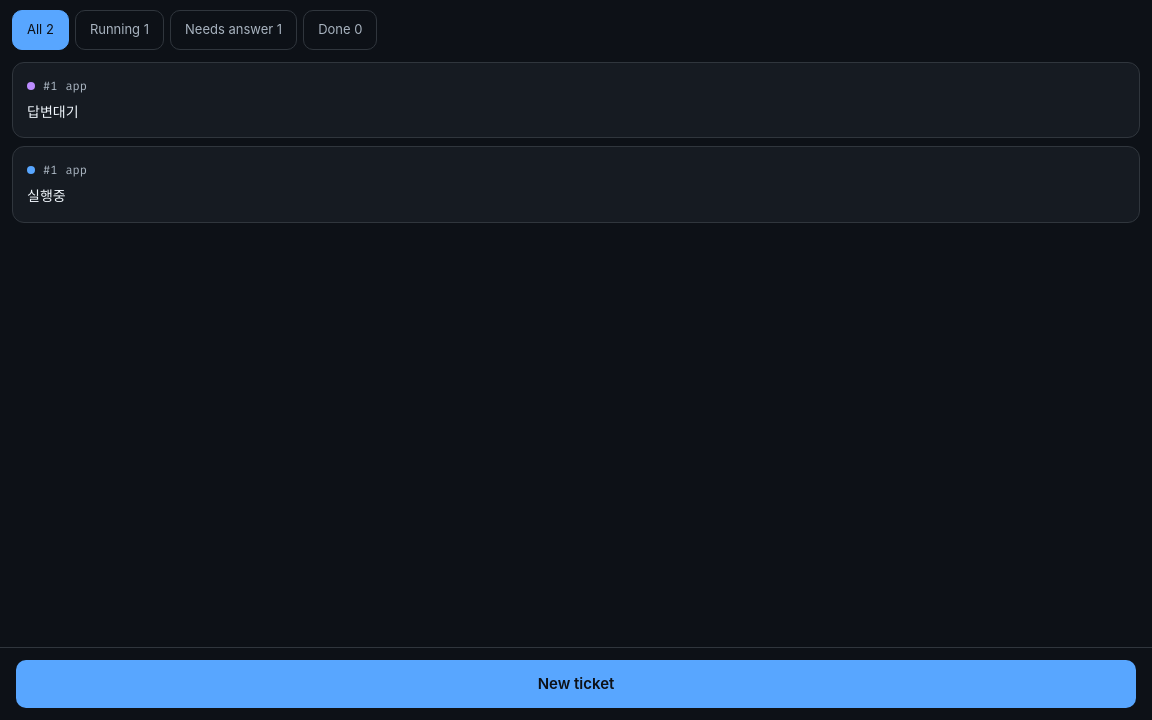
Scenario: MobileTicketList › filters to the tickets that need an answer
Click the tab "Needs answer 1": (234, 30) [170,10,297,50]
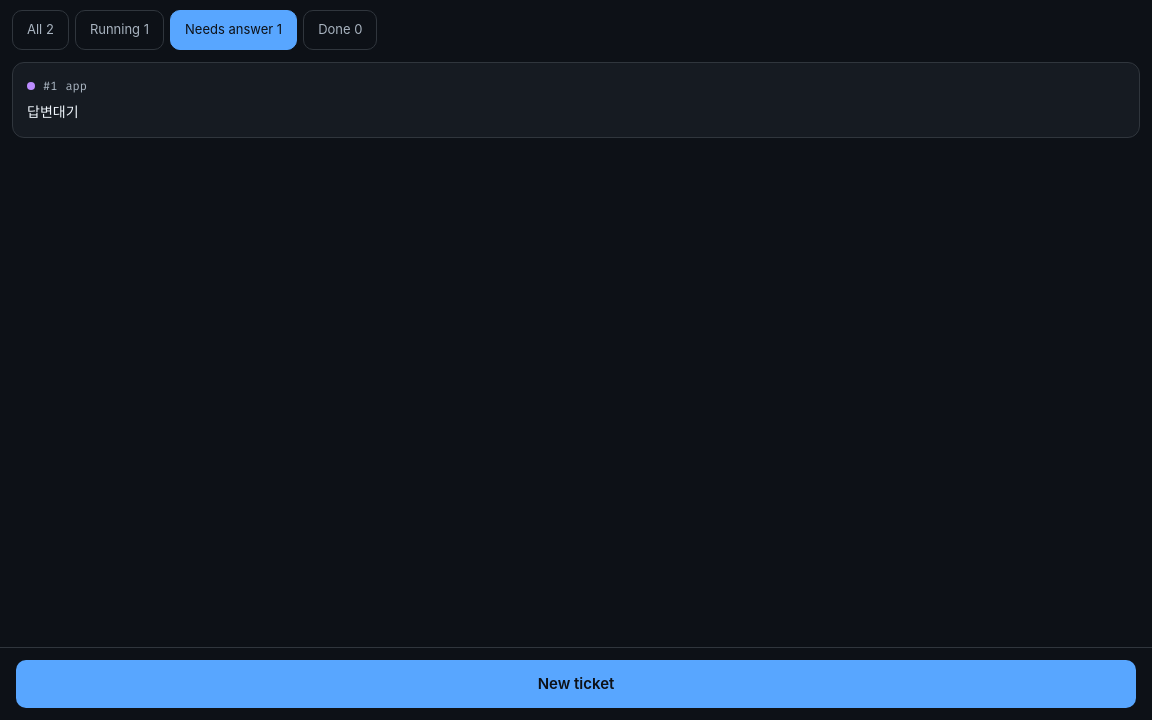
expect the text "답변대기" is shown: met, box [27,103,78,120]
expect the button "실행중" is gone: met
